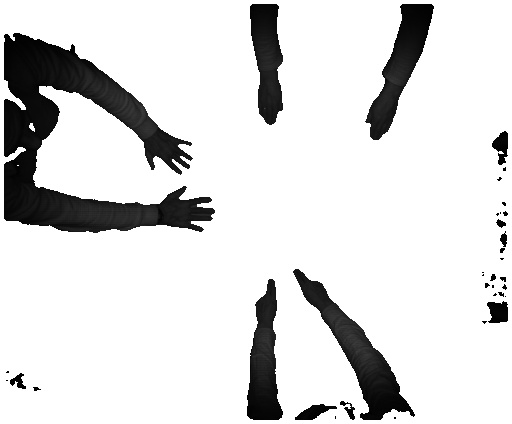hand: (146, 128, 198, 175), (163, 186, 215, 231), (288, 264, 334, 311), (360, 95, 400, 143), (248, 272, 279, 326), (256, 80, 287, 127)
